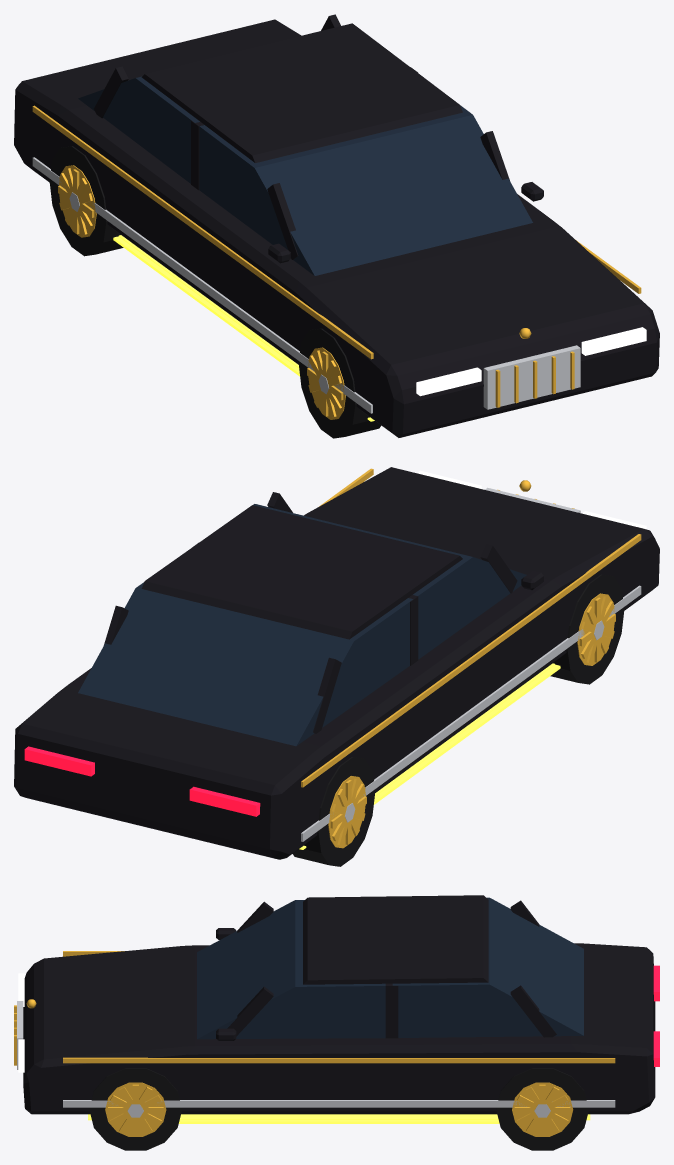
Rendered from car_luxury.glb.
The picture shows the model from 3 angles, top to bottom: view 1: azimuth 30°, elevation 25°; view 2: azimuth 150°, elevation 25°; view 3: azimuth 270°, elevation 25°; orthographic projection. The views are drawn at different scales.
Visible parts, largest first — view 1: car_luxury, Wheel_FR, Wheel_RR; view 2: car_luxury, Wheel_RR, Wheel_FR; view 3: car_luxury, Wheel_FL, Wheel_RL.
Boxes of the visible parts, x1,y1,x2,y2 form: car_luxury: (14,14,659,437); Wheel_FR: (298,328,381,438); Wheel_RR: (49,146,123,256); car_luxury: (14,467,659,859); Wheel_RR: (293,757,375,866); Wheel_FR: (550,574,624,684); car_luxury: (14,895,659,1123); Wheel_FL: (89,1068,182,1150); Wheel_RL: (496,1068,588,1150).
Bounding box in the file's own units: 2.07 × 1.41 × 5.14.
